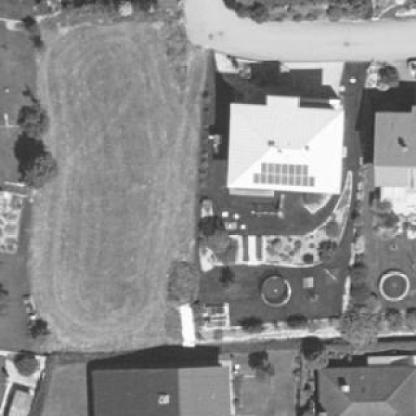solar-pv-panel: (254, 162, 315, 187), (409, 169, 416, 190)
